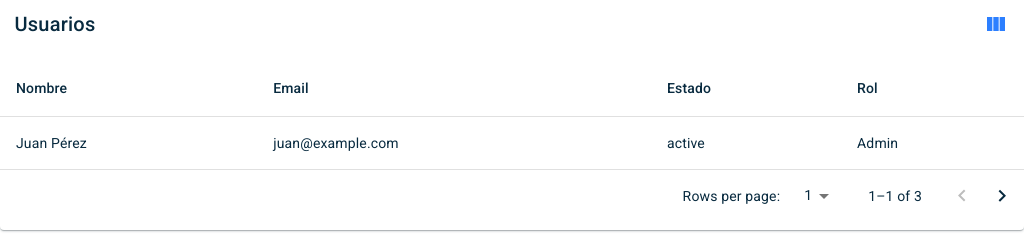
Test: MobixTable › supports client pagination by changing visible rows when moving to next page
Expected: the text "Juan Pérez" is shown, [0,116,257,170]
Expected: the text "María López" is not shown
Click the button named "Go to next page": (1002, 196) [982,176,1022,216]
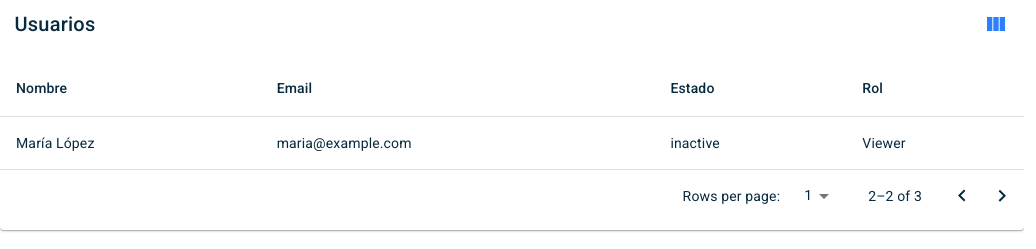
Result: the text "María López" is shown at [0,116,261,170]
Result: the text "Juan Pérez" is gone
